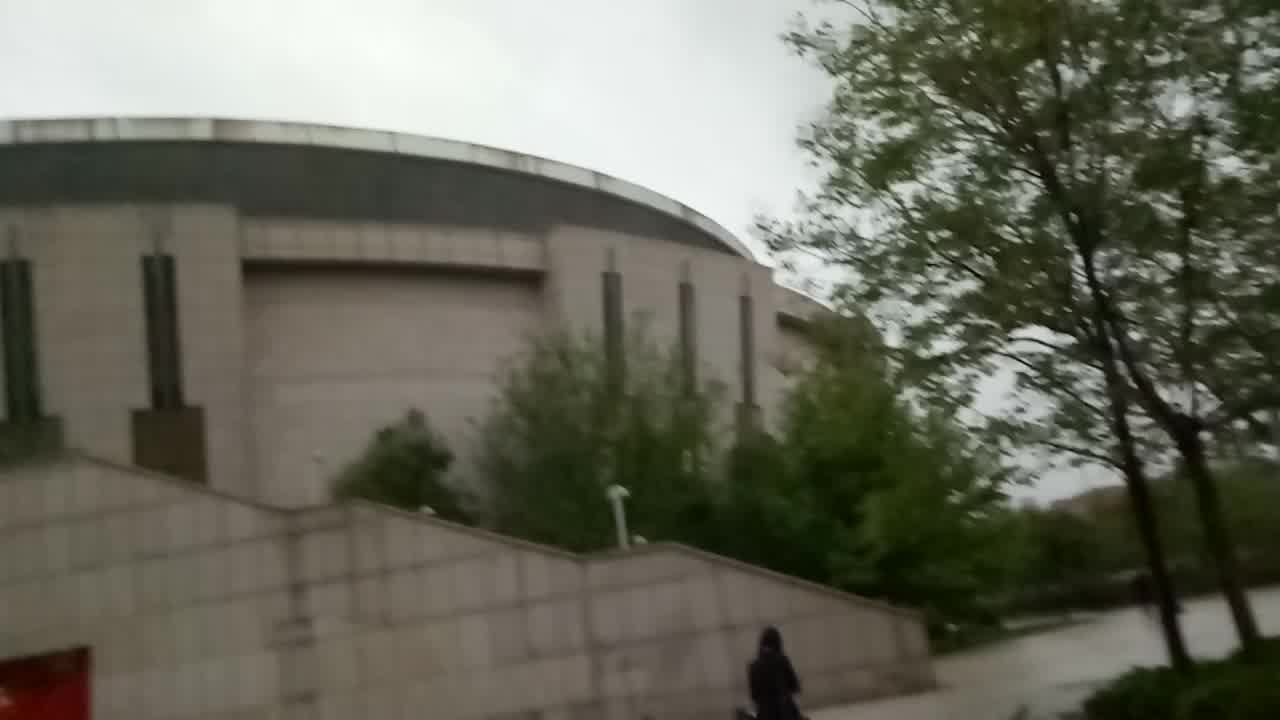zhongtiww: (1, 104, 960, 708)
